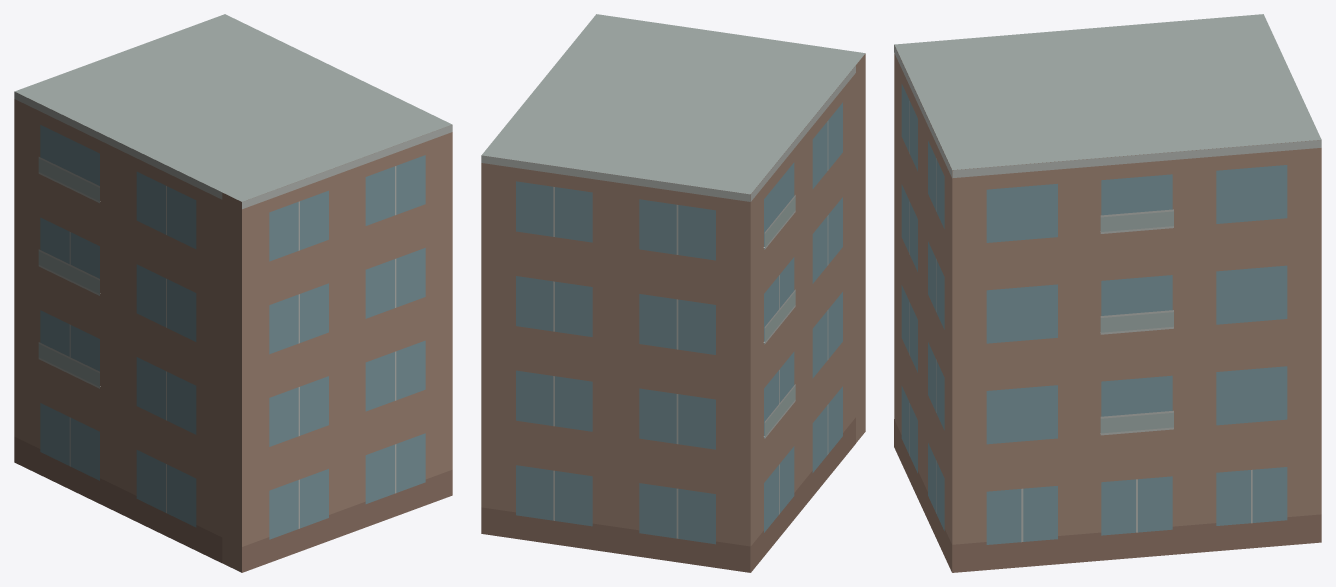
The model's file is residential-0bd8fbb1-c1b4-48b3-b2e9-c7eb100697d3.glb.
3 views of the same model, side by side, from view 1: azimuth 30°, elevation 25°; view 2: azimuth 150°, elevation 25°; view 3: azimuth 270°, elevation 25° (orthographic). The views are drawn at different scales.
Visible parts, largest first — view 1: residential-0bd8fbb1-c1b4-48b3-b2e9-c7eb100697d3.tmp; view 2: residential-0bd8fbb1-c1b4-48b3-b2e9-c7eb100697d3.tmp; view 3: residential-0bd8fbb1-c1b4-48b3-b2e9-c7eb100697d3.tmp.
Boxes of the visible parts, left/top/right/bottom form: residential-0bd8fbb1-c1b4-48b3-b2e9-c7eb100697d3.tmp: left=14, top=14, right=452, bottom=572; residential-0bd8fbb1-c1b4-48b3-b2e9-c7eb100697d3.tmp: left=481, top=14, right=865, bottom=572; residential-0bd8fbb1-c1b4-48b3-b2e9-c7eb100697d3.tmp: left=894, top=14, right=1321, bottom=572.
Size of the model in its own units: 10.15 by 12.2 by 11.74.
